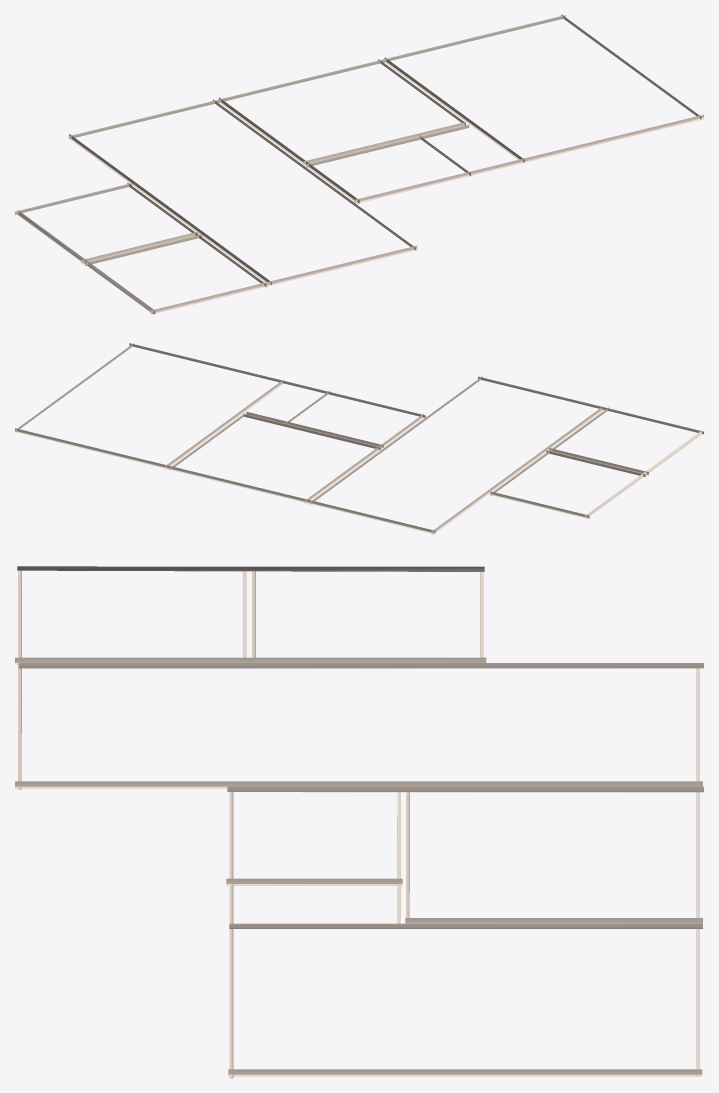
Rendered from Borders .fbx.
The picture shows the model from 3 angles, top to bottom: view 1: azimuth 30°, elevation 25°; view 2: azimuth 150°, elevation 25°; view 3: azimuth 270°, elevation 25°; orthographic projection. The views are drawn at different scales.
Visible parts, largest first — view 1: borders; view 2: borders; view 3: borders.
Part boxes in pixels (x1=…): borders: x1=14, y1=14, x2=704, y2=314; borders: x1=14, y1=343, x2=704, y2=534; borders: x1=15, y1=566, x2=703, y2=1078.
Bounding box in the file's own units: 4900 × 25.72 × 2801.
